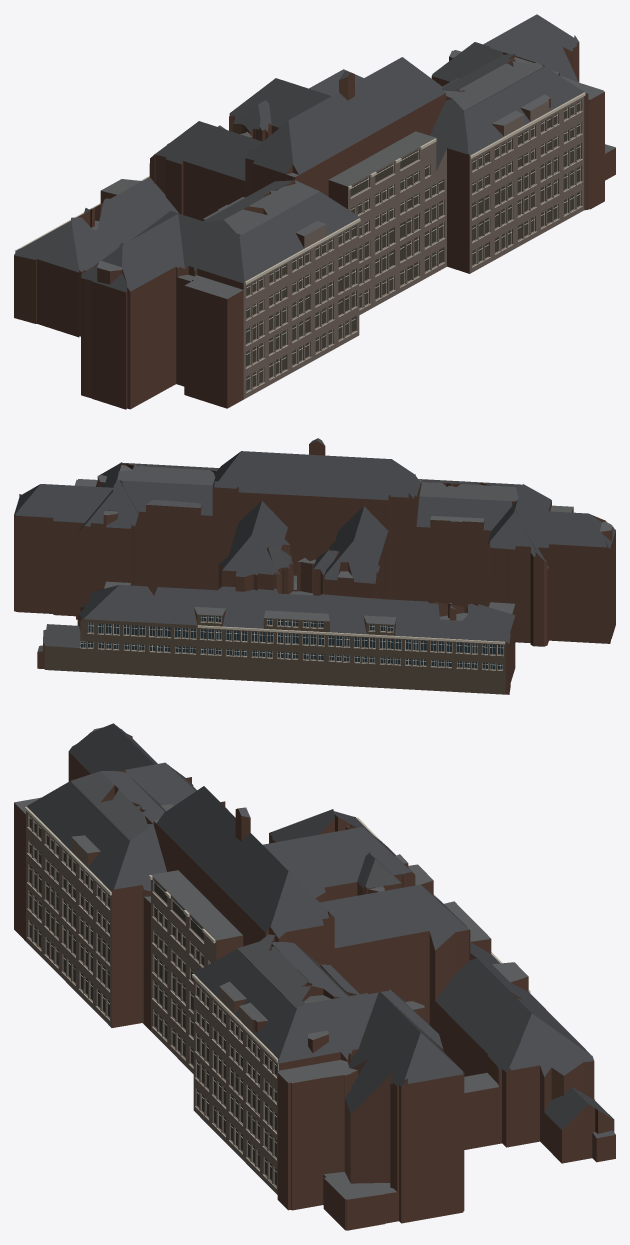
The model's file is recipe-large-wg-plein-600-233657.glb.
3 renders of one model, top to bottom at view 1: azimuth 30°, elevation 25°; view 2: azimuth 150°, elevation 25°; view 3: azimuth 270°, elevation 25°, orthographic. The views are drawn at different scales.
Visible parts, largest first — view 1: wg-plein-600-233657; view 2: wg-plein-600-233657; view 3: wg-plein-600-233657.
Part boxes in pixels (box(x1,y1,x2,y2)): wg-plein-600-233657: box(14, 14, 615, 409); wg-plein-600-233657: box(14, 438, 615, 694); wg-plein-600-233657: box(14, 723, 615, 1230).
Size of the model in its own units: 112 by 36 by 79.94.
